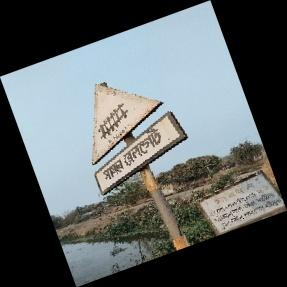Rail-crossing: (92, 78, 195, 207)
